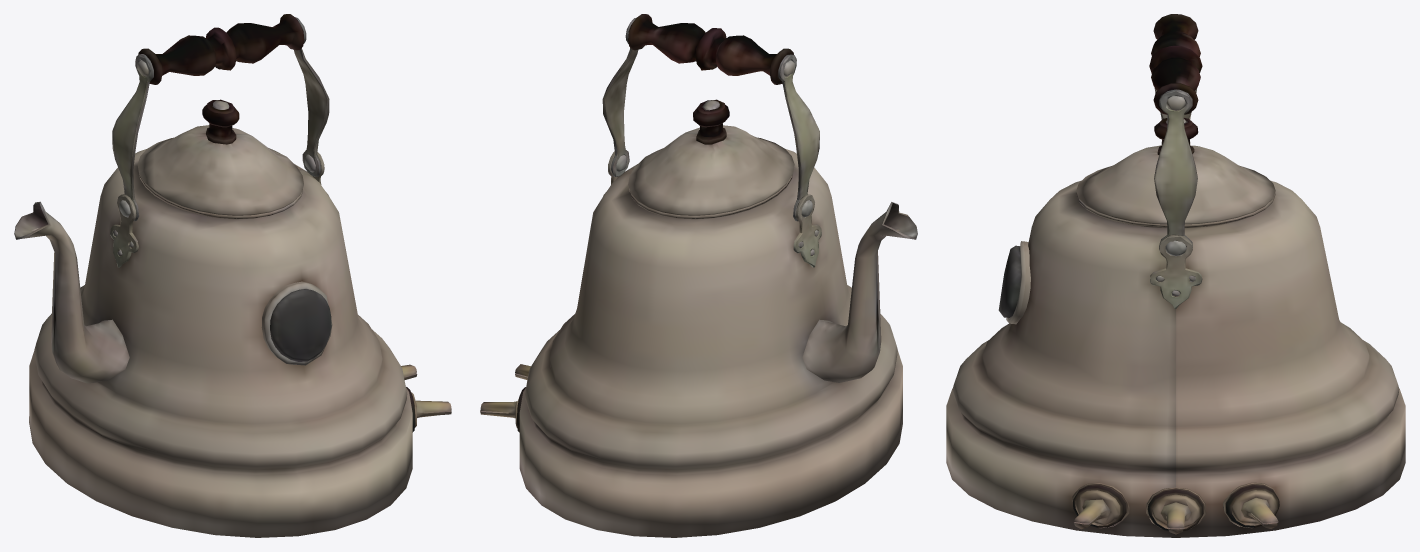
File: ph-vintage-electric-kettle.glb
The picture shows the model from 3 angles, left to right: view 1: azimuth 30°, elevation 25°; view 2: azimuth 150°, elevation 25°; view 3: azimuth 270°, elevation 25°; orthographic projection.
Visible parts, largest first — view 1: vintage_electric_kettle; view 2: vintage_electric_kettle; view 3: vintage_electric_kettle.
Part boxes in pixels (x1,y1,x2,y2): vintage_electric_kettle: (14, 14, 451, 537); vintage_electric_kettle: (480, 14, 917, 537); vintage_electric_kettle: (946, 14, 1405, 537).
Size of the model in its own units: 1 by 0.9988 by 0.9971.
Materials: 2 (2 with a texture image).
